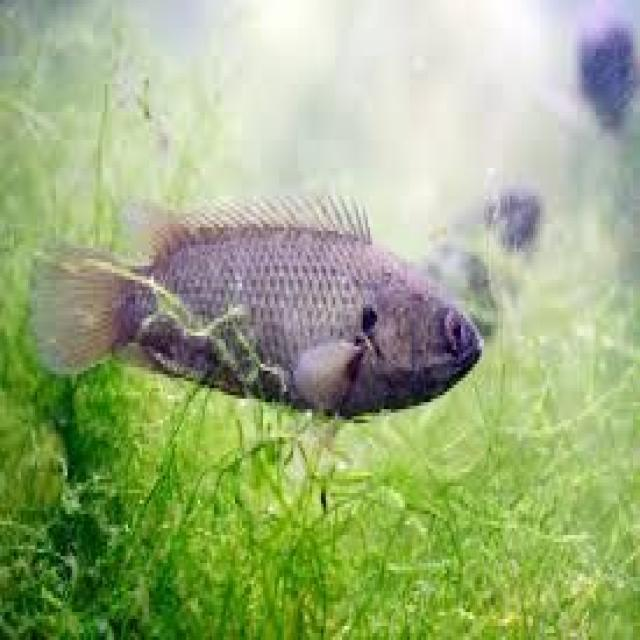Climbing-Perch: (16, 134, 503, 476)
